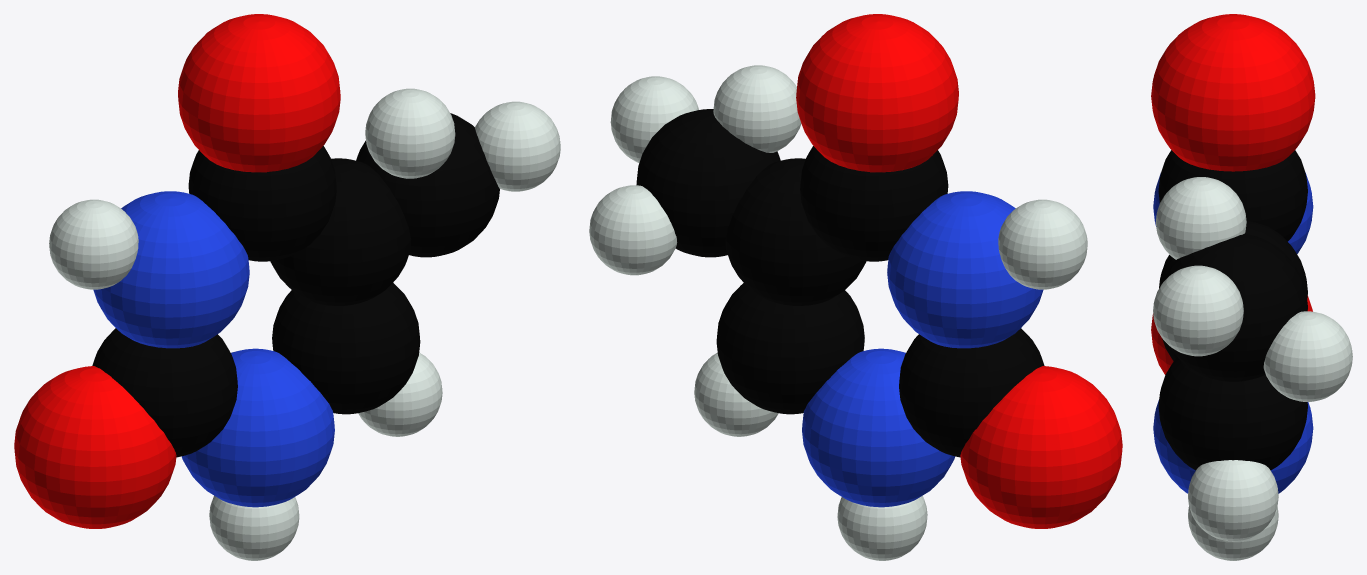
The model's file is Timina.glb.
The picture shows the model from 3 angles, left to right: view 1: azimuth 30°, elevation 25°; view 2: azimuth 150°, elevation 25°; view 3: azimuth 270°, elevation 25°; orthographic projection.
Parts seen in each view (by area): view 1: Carbono.002; view 2: Carbono.002; view 3: Carbono.002.
Boxes of the visible parts, x1,y1,x2,y2 form: Carbono.002: (14,14,560,560); Carbono.002: (589,14,1122,560); Carbono.002: (1151,14,1352,560).
Bounding box in the file's own units: 2.2 × 2.19 × 0.7456.
